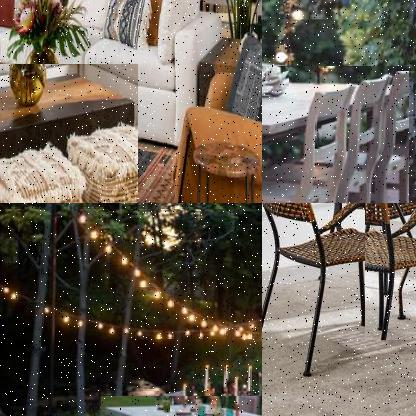table: (262, 66, 411, 202), (0, 64, 140, 202), (365, 203, 415, 342)
